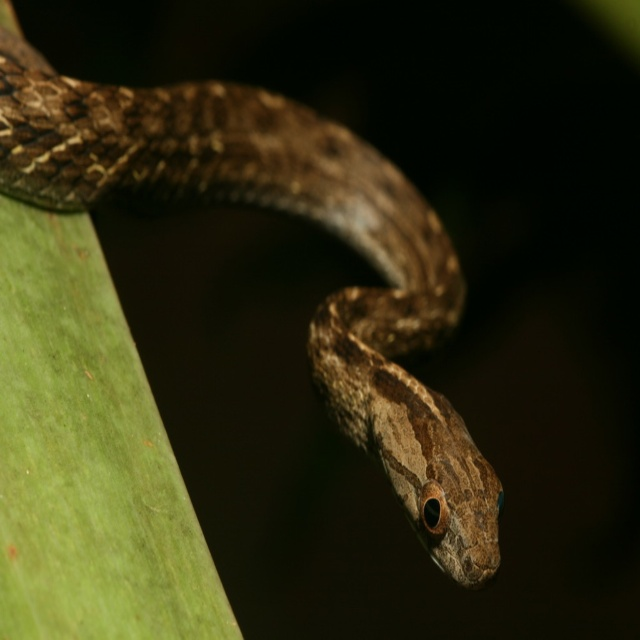Snake: (0, 49, 506, 583)
